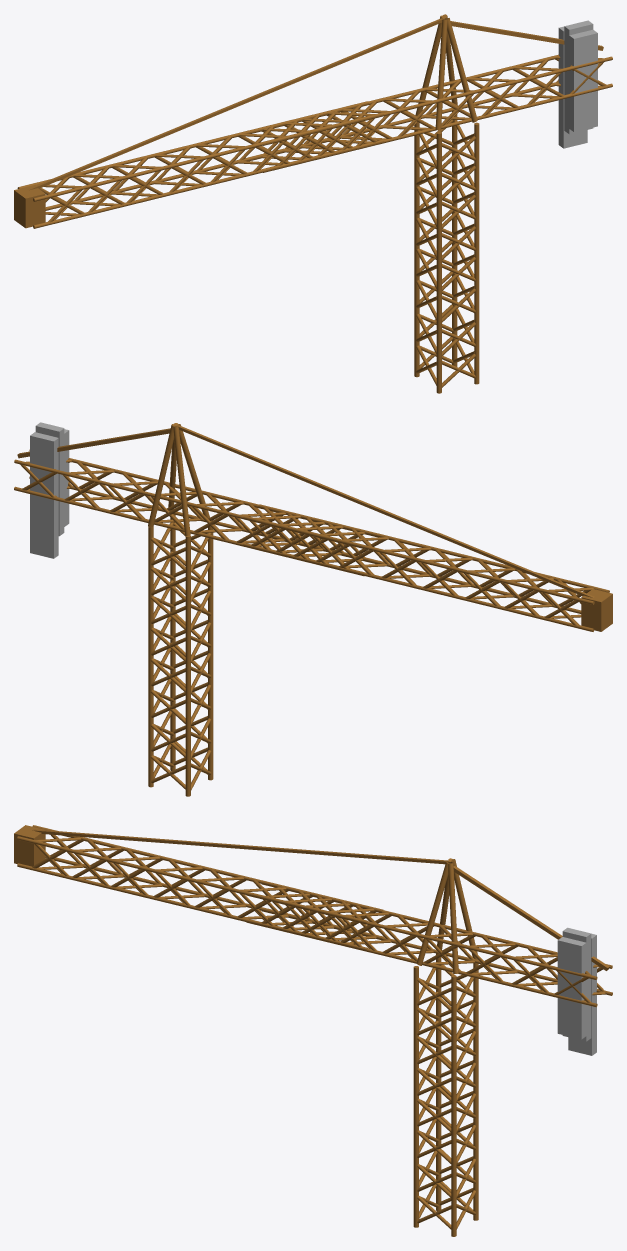
Rendered from CRANE1.fbx.
3 renders of one model, top to bottom at view 1: azimuth 30°, elevation 25°; view 2: azimuth 150°, elevation 25°; view 3: azimuth 330°, elevation 25°, orthographic.
Visible parts, largest first — view 1: pCylinder2 (×3), pCylinder1 (×3), pCylinder4 (×3), pCylinder3 (×3), pCube3, pCube4, pCube6, pCube1, pCube2, pCylinder69, pCube5, pCylinder70 (+1 smaller); view 2: pCylinder4 (×3), pCylinder3 (×3), pCube1, pCylinder2 (×3), pCylinder1 (×3), pCube4, pCube6, pCube2, pCube5, pCylinder71, pCylinder72, pCylinder69; view 3: pCylinder2 (×3), pCylinder1 (×3), pCylinder4 (×3), pCube3, pCylinder3 (×3), pCube4, pCube6, pCube1, pCube5, pCube2, pCylinder70, pCylinder69.
Part boxes in pixels (bbox=[...]): pCylinder2 (×3): bbox=[33, 56, 612, 384]; pCylinder1 (×3): bbox=[33, 83, 612, 393]; pCylinder4 (×3): bbox=[17, 54, 558, 366]; pCylinder3 (×3): bbox=[45, 82, 558, 377]; pCube3: bbox=[569, 29, 597, 132]; pCube4: bbox=[27, 18, 444, 190]; pCube6: bbox=[14, 185, 45, 228]; pCube1: bbox=[558, 26, 587, 148]; pCube2: bbox=[564, 20, 593, 134]; pCylinder69: bbox=[435, 19, 447, 130]; pCube5: bbox=[450, 21, 603, 50]; pCylinder70: bbox=[445, 18, 477, 122]; pCylinder4 (×3): bbox=[14, 459, 594, 787]; pCylinder3 (×3): bbox=[14, 486, 594, 796]; pCube1: bbox=[30, 432, 58, 558]; pCylinder2 (×3): bbox=[29, 449, 609, 770]; pCylinder1 (×3): bbox=[29, 476, 581, 780]; pCube4: bbox=[177, 425, 594, 597]; pCube6: bbox=[581, 589, 612, 631]; pCube2: bbox=[35, 422, 64, 536]; pCube5: bbox=[17, 428, 170, 458]; pCylinder71: bbox=[173, 425, 190, 535]; pCylinder72: bbox=[148, 424, 176, 527]; pCylinder69: bbox=[178, 424, 209, 518]; pCylinder2 (×3): bbox=[17, 836, 597, 1236]; pCylinder1 (×3): bbox=[17, 863, 597, 1227]; pCylinder4 (×3): bbox=[32, 825, 612, 1220]; pCube3: bbox=[557, 937, 586, 1039]; pCylinder3 (×3): bbox=[45, 856, 612, 1211]; pCube4: bbox=[32, 829, 449, 864]; pCube6: bbox=[14, 825, 45, 866]; pCube1: bbox=[568, 933, 596, 1055]; pCube5: bbox=[453, 866, 609, 970]; pCube2: bbox=[562, 927, 591, 1041]; pCylinder70: bbox=[448, 863, 458, 973]; pCylinder69: bbox=[416, 862, 449, 965].
Size of the model in its own units: 93.83 by 55.19 by 6.93.
